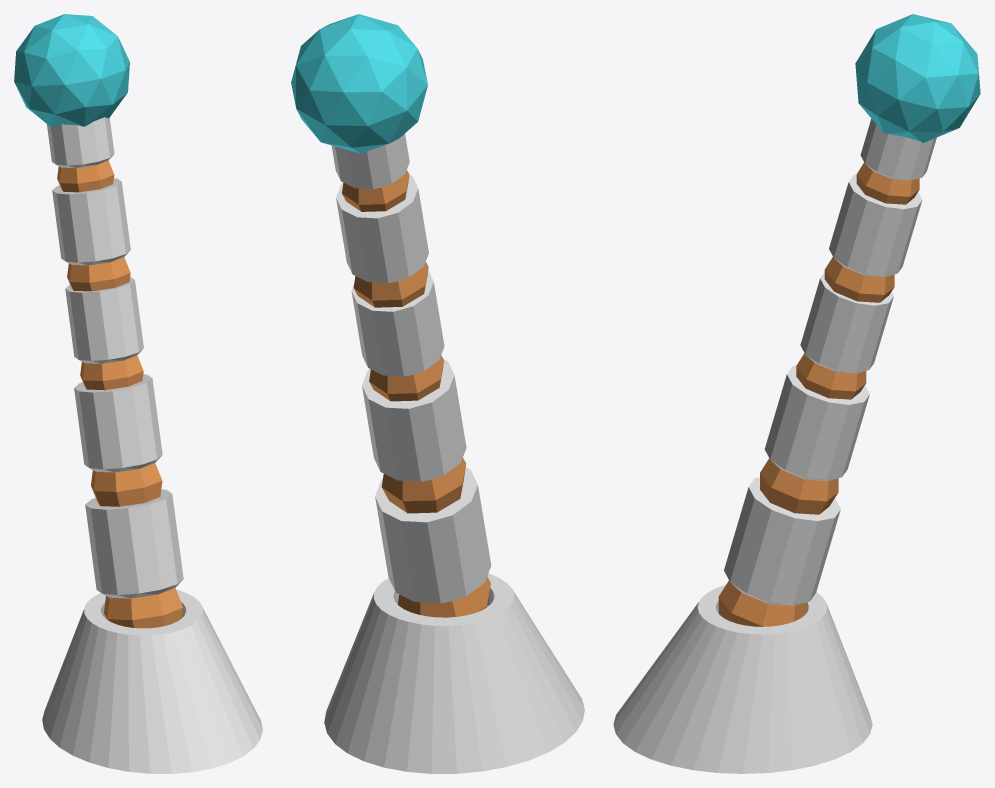
The model's file is Antenna_Joints.fbx.
The picture shows the model from 3 angles, left to right: view 1: azimuth 30°, elevation 25°; view 2: azimuth 150°, elevation 25°; view 3: azimuth 270°, elevation 25°; orthographic projection. The views are drawn at different scales.
Parts seen in each view (by area): view 1: Antenna_Limb, Joint, Icosphere, Joint.001, Joint.003, Joint.002, Joint.004; view 2: Antenna_Limb, Icosphere, Joint, Joint.001, Joint.003, Joint.002, Joint.004; view 3: Antenna_Limb, Icosphere, Joint, Joint.001, Joint.003, Joint.002, Joint.004.
Part boxes in pixels (bbox=[...]): Antenna_Limb: bbox=[42, 589, 262, 773]; Joint: bbox=[85, 489, 183, 628]; Icosphere: bbox=[14, 14, 129, 127]; Joint.001: bbox=[74, 374, 162, 506]; Joint.003: bbox=[52, 178, 130, 291]; Joint.002: bbox=[65, 277, 143, 390]; Joint.004: bbox=[47, 117, 114, 192]; Antenna_Limb: bbox=[324, 573, 584, 773]; Icosphere: bbox=[291, 14, 427, 153]; Joint: bbox=[375, 467, 491, 617]; Joint.001: bbox=[362, 359, 466, 513]; Joint.003: bbox=[336, 174, 428, 307]; Joint.002: bbox=[351, 271, 444, 401]; Joint.004: bbox=[331, 134, 409, 211]; Antenna_Limb: bbox=[613, 584, 872, 773]; Icosphere: bbox=[855, 14, 980, 142]; Joint: bbox=[718, 477, 840, 626]; Joint.001: bbox=[760, 365, 869, 514]; Joint.003: bbox=[824, 174, 922, 302]; Joint.002: bbox=[796, 272, 893, 399]; Joint.004: bbox=[856, 119, 936, 204].
Size of the model in its own units: 360 by 1197 by 567.
